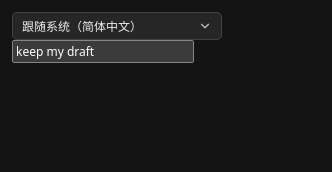
language selector › labels the system option using the system language after a manual locale change
Later steps or results of the test are not shown.
Click the button with aria-label "界面语言": (117, 26) [12,12,222,40]
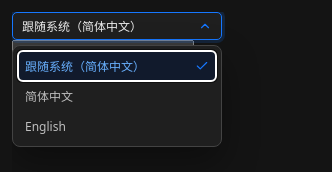
Click the option "English": (117, 126) [18,111,216,141]
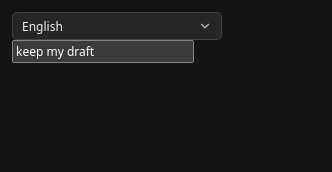
Click the button with aria-label "Interface language": (117, 26) [12,12,222,40]
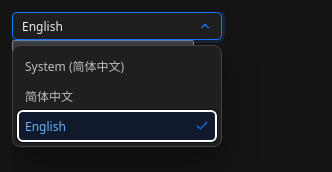
Expected: the option "System (简体中文)" is shown, [18,51,216,81]
